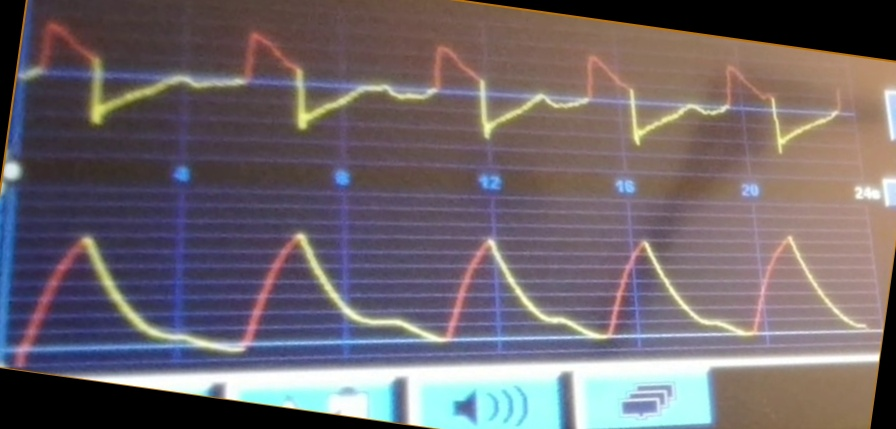Ineffective_effort Flow: (30, 18, 844, 153)
Ineffective_effort Volume: (13, 214, 864, 356)
